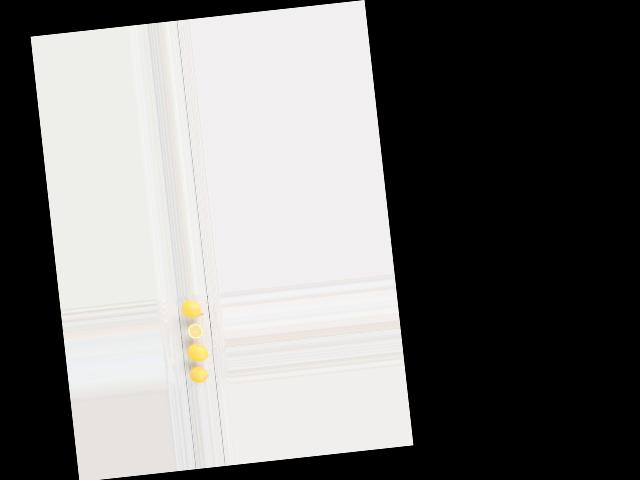lemon: (180, 298, 205, 319)
